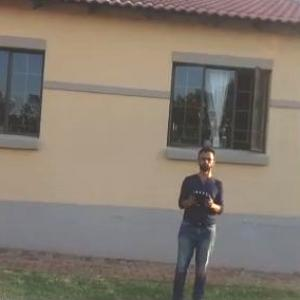follow: (169, 143, 231, 299)
